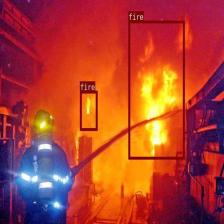fire: (128, 20, 185, 159), (80, 90, 97, 130)
